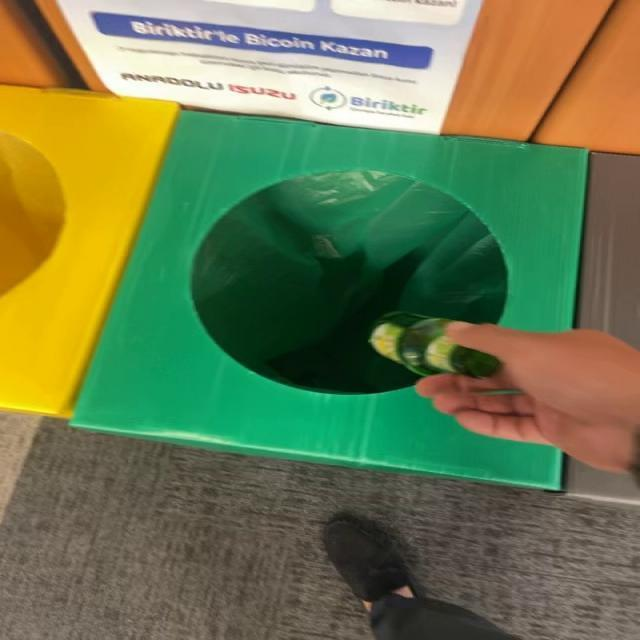Glass: (371, 312, 501, 378)
